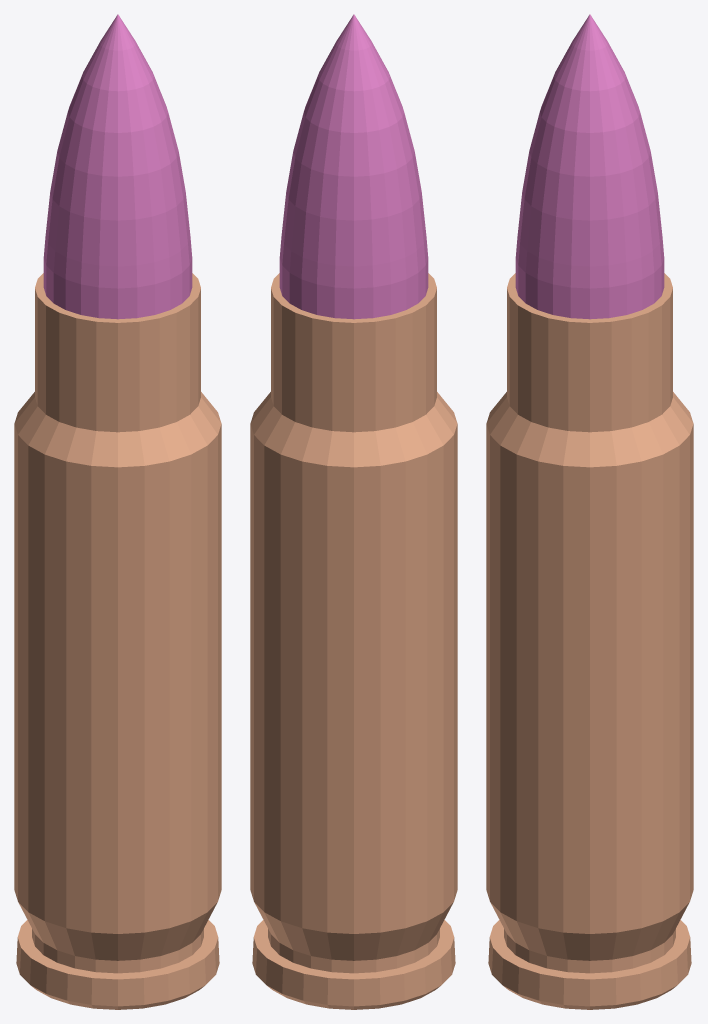
Rendered from bullet.gltf.
3 renders of one model, left to right at view 1: azimuth 30°, elevation 25°; view 2: azimuth 150°, elevation 25°; view 3: azimuth 270°, elevation 25°, orthographic.
Parts seen in each view (by area): view 1: Small Pistol Small Rifle, Bullet; view 2: Small Pistol Small Rifle, Bullet; view 3: Small Pistol Small Rifle, Bullet.
Boxes of the visible parts, <box> form: Small Pistol Small Rifle: <box>14,273,221,1009</box>; Bullet: <box>43,14,192,319</box>; Small Pistol Small Rifle: <box>250,273,457,1009</box>; Bullet: <box>279,14,428,319</box>; Small Pistol Small Rifle: <box>486,273,693,1009</box>; Bullet: <box>515,14,664,319</box>.
Size of the model in its own units: 0.5566 by 2.84 by 0.5566.
